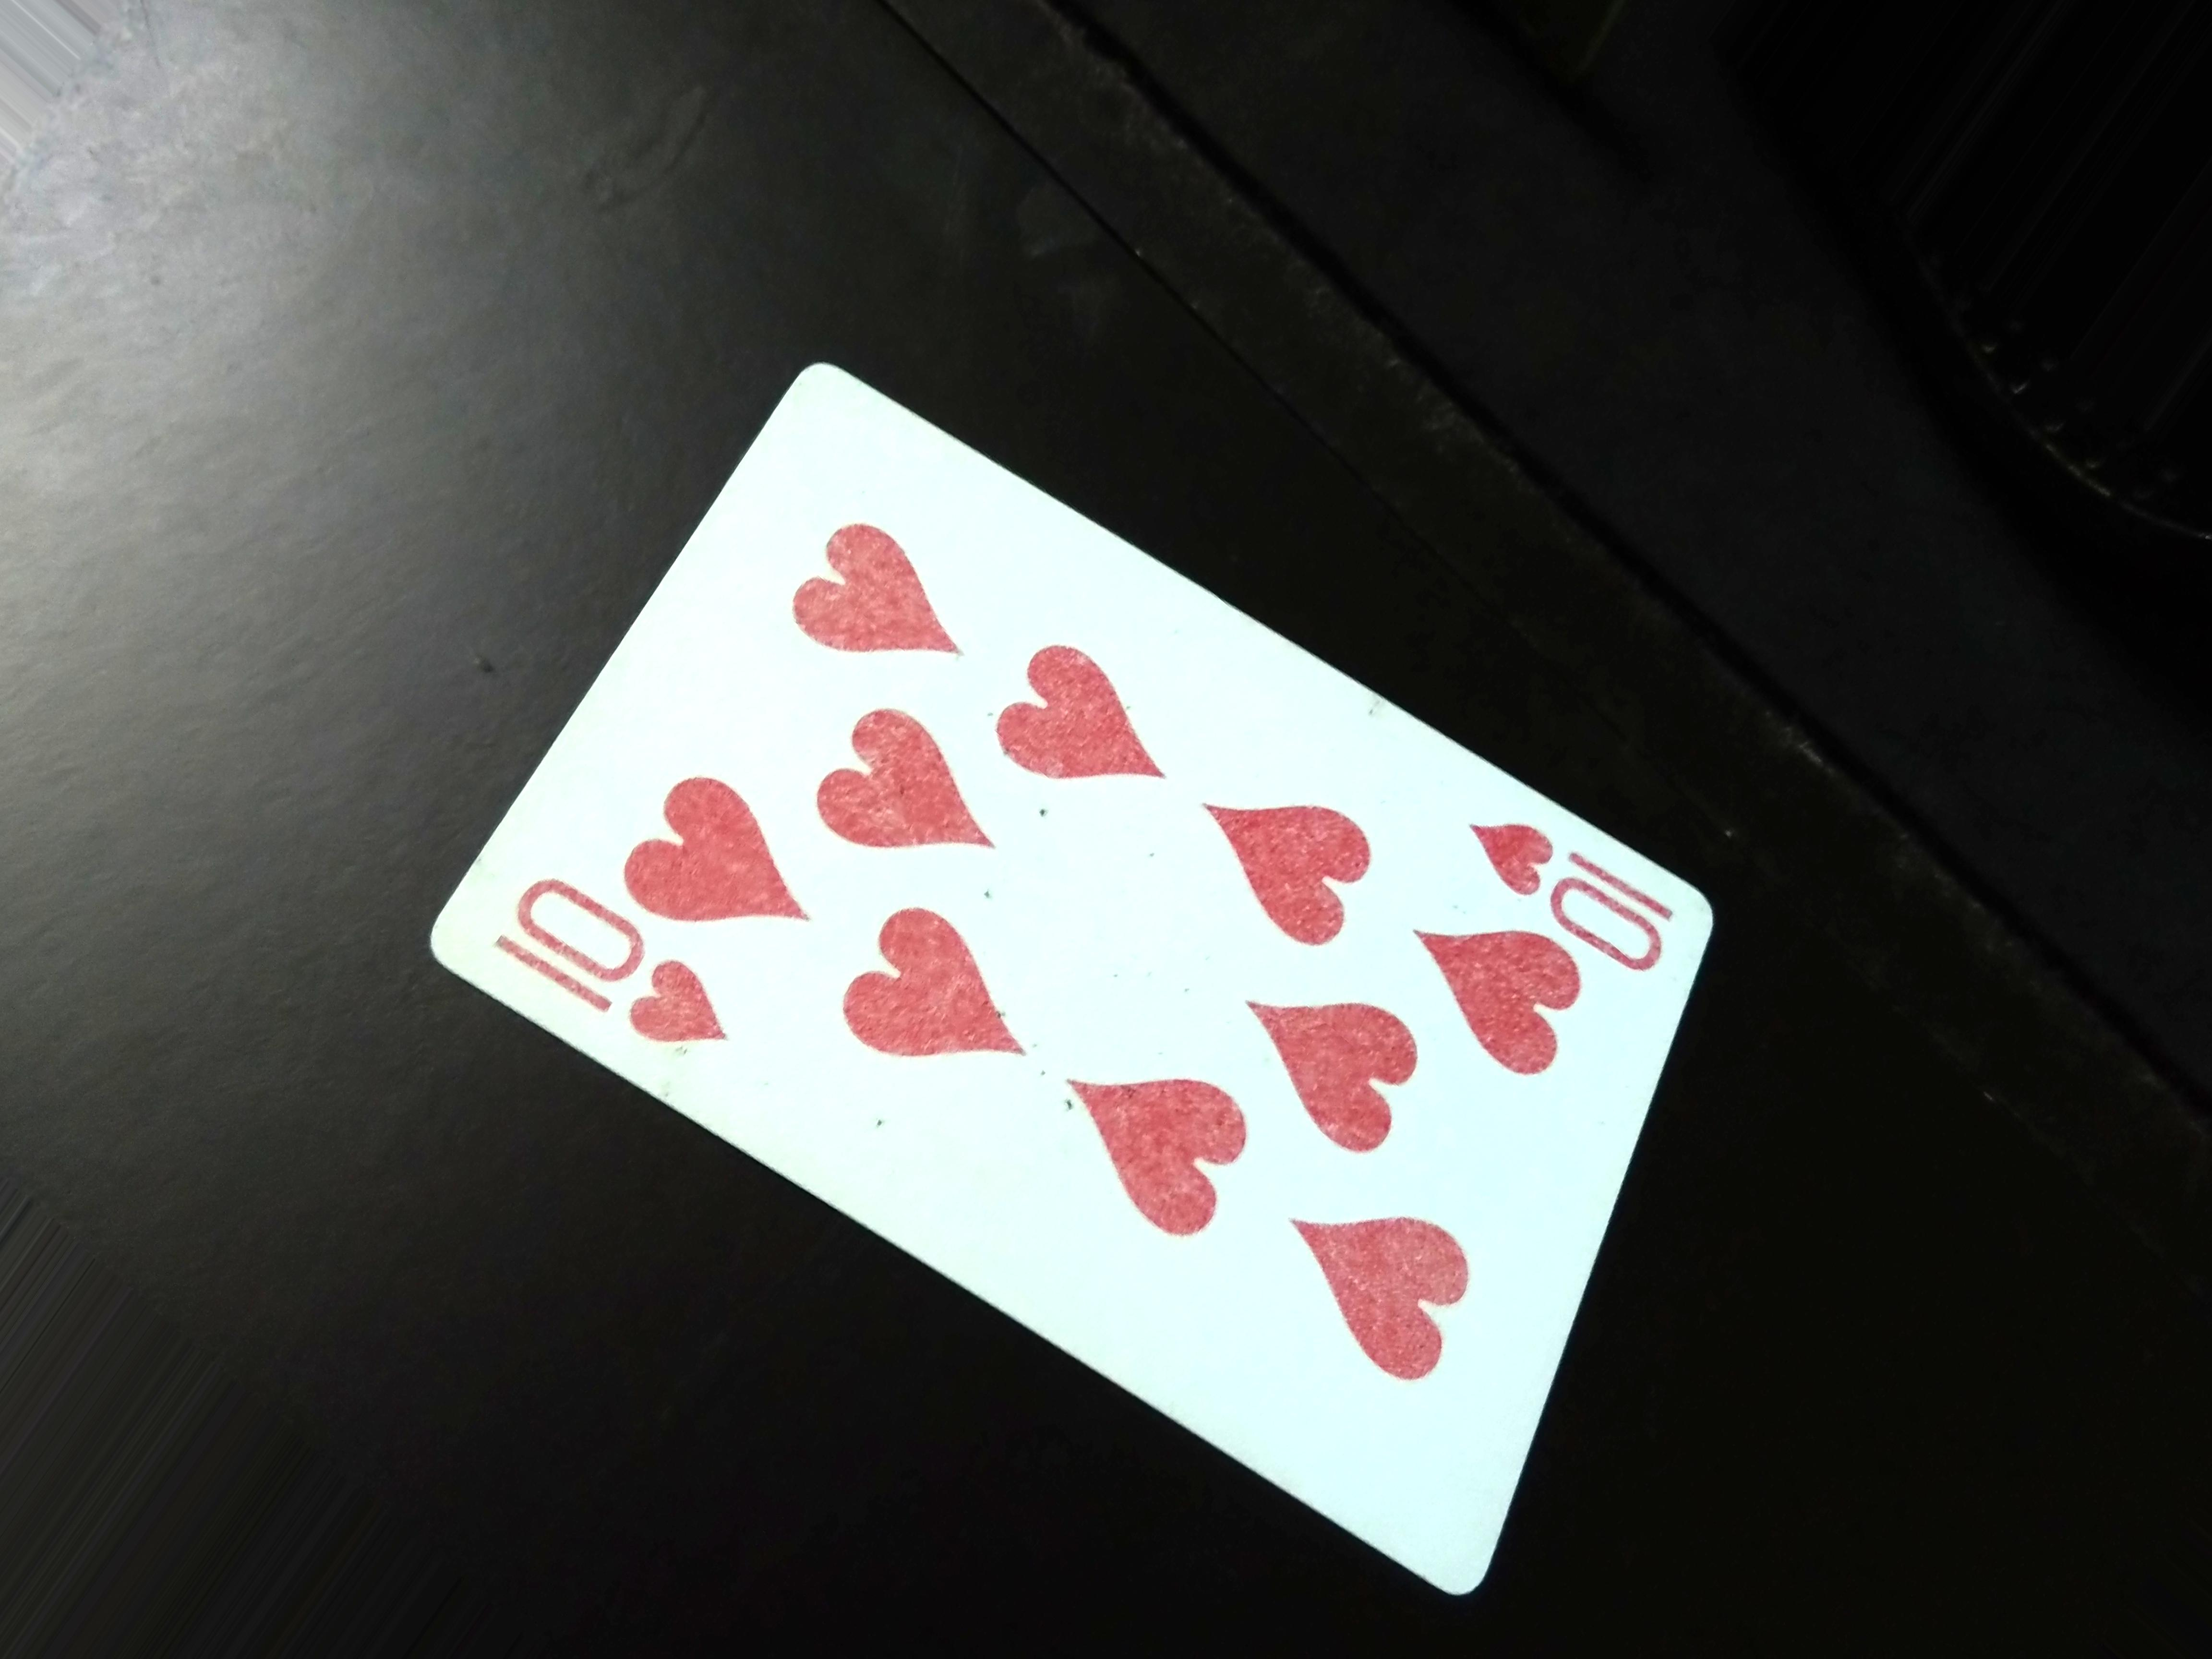10H: (495, 878, 777, 1042)
